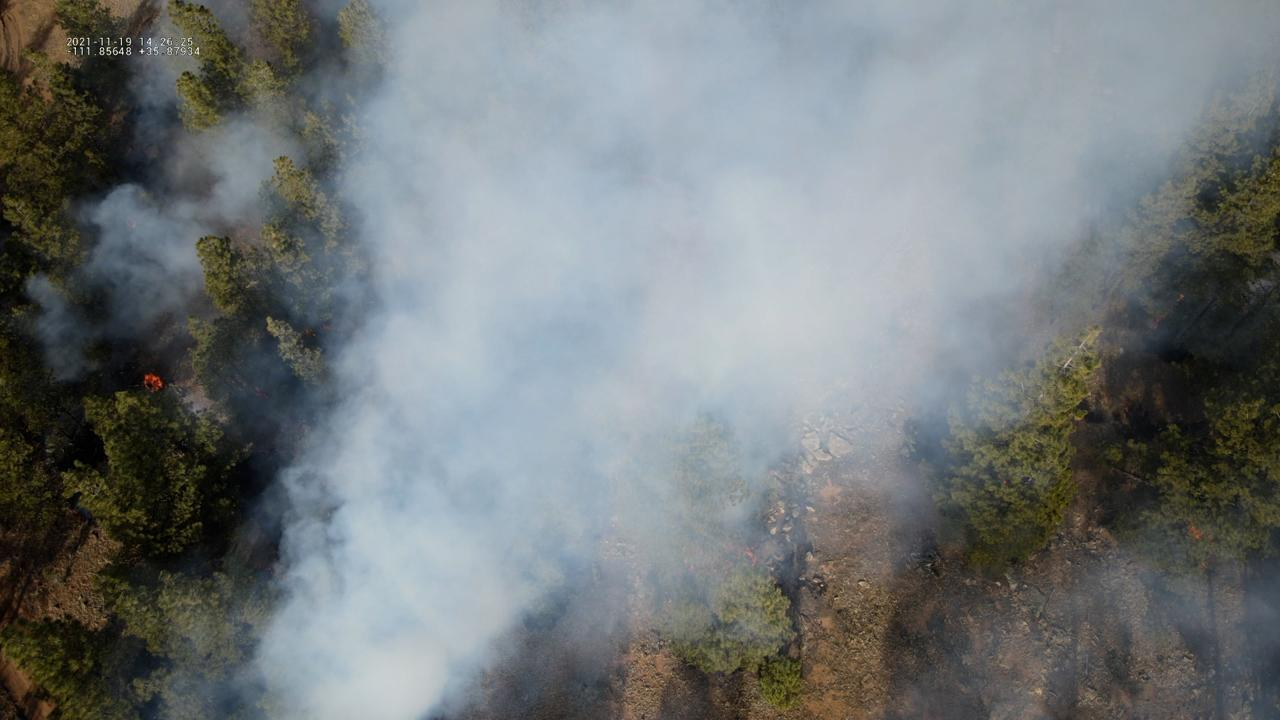fire: (140, 370, 163, 393), (1184, 525, 1204, 542)
smoke: (9, 0, 1280, 720)
